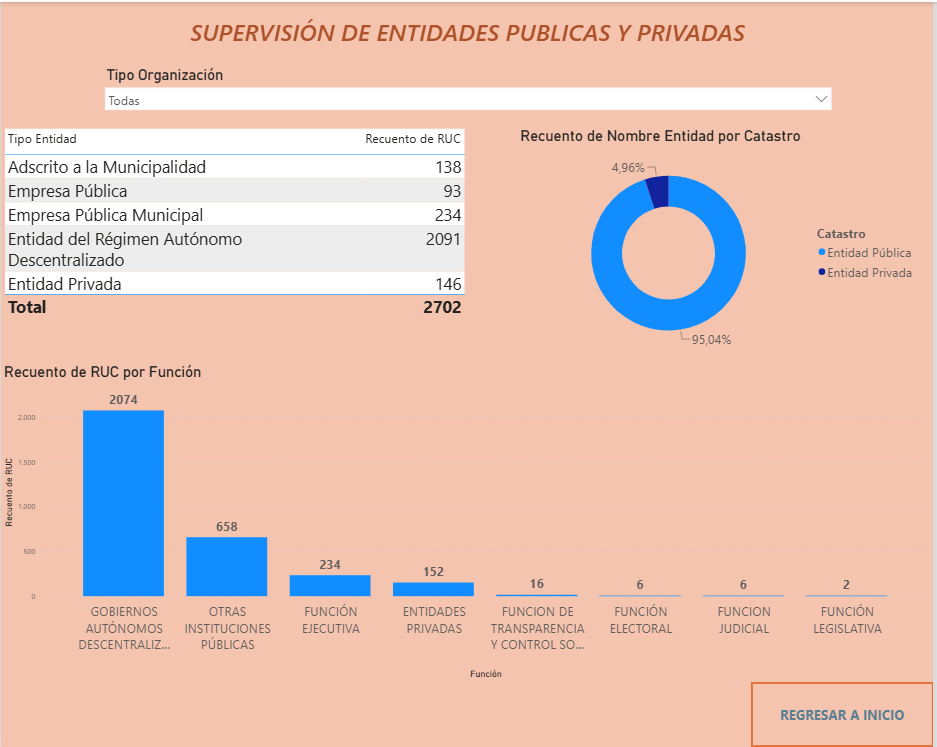

What the dashboard file says about the page in this screenshot:
{"tool":"powerbi","page":{"name":"Supervisar entidades públicas y privadas","canvas":[1500,1200],"ordinal":1},"visuals":[{"type":"donutChart","fields":{"Category":["DIM catastro.Catastro"],"Y":["CountNonNull(2020-2021.Nombre Entidad)"]},"box":[831,201.6,650.1,378.8],"z":0},{"type":"textbox","box":[288.5,0,926.1,97.8],"z":8000},{"type":"slicer","fields":{"Values":["DIM TipoOrganizacion.Tipo Organización"]},"box":[156.3,98.6,1189.2,100.5],"z":10000},{"type":"tableEx","fields":{"Values":["2020-2021.Tipo Entidad","2020-2021.RUC"]},"box":[0,199.1,831.9,359.2],"z":11000},{"type":"clusteredColumnChart","fields":{"Category":["DIM funcion.Función"],"Y":["CountNonNull(2020-2021.RUC)"]},"box":[0,580.6,1500,513.7],"z":12000},{"type":"actionButton","box":[1206,1094.3,294,106.1],"z":13000}]}

Visuals, with their boxes in screenshot pixels (x1, y1, x2, y2), scaled from the page's 1500x1200 canvas onto the 937x747 screenshot:
donutChart - DIM catastro.Catastro x CountNonNull(2020-2021.Nombre Entidad): (519,125,925,361)
textbox: (180,0,759,61)
slicer - DIM TipoOrganizacion.Tipo Organización: (98,61,840,124)
tableEx - 2020-2021.Tipo Entidad x 2020-2021.RUC: (0,124,520,348)
clusteredColumnChart - DIM funcion.Función x CountNonNull(2020-2021.RUC): (0,361,936,681)
actionButton: (753,681,936,746)
